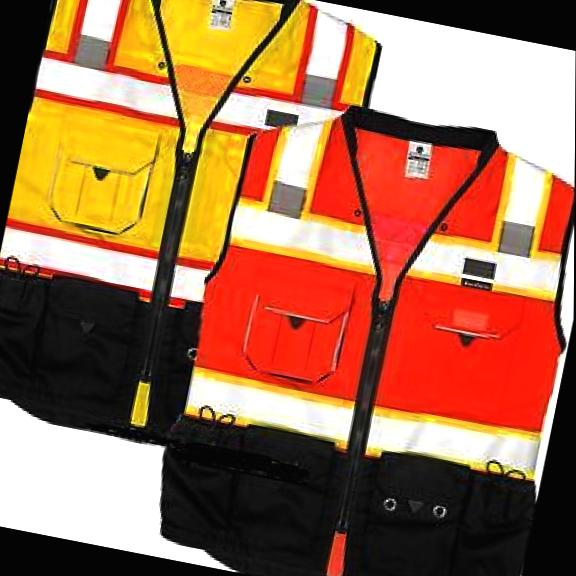safety_vest: (139, 76, 575, 576), (0, 0, 392, 474)
